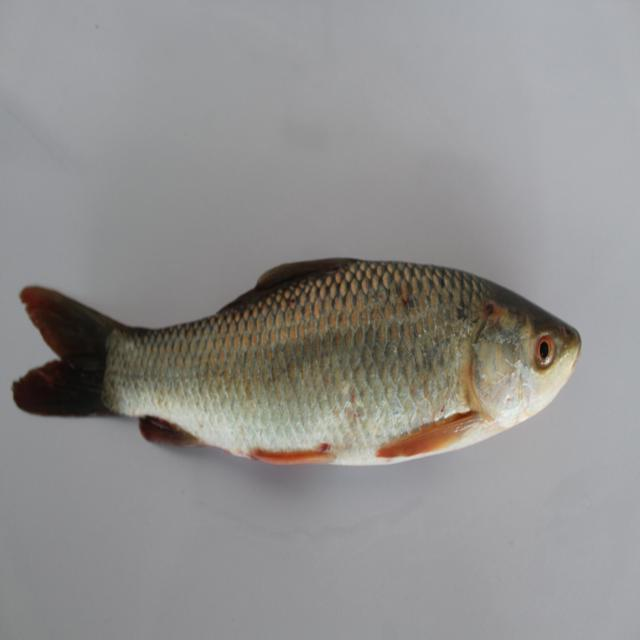Rohu: (11, 246, 597, 504)
